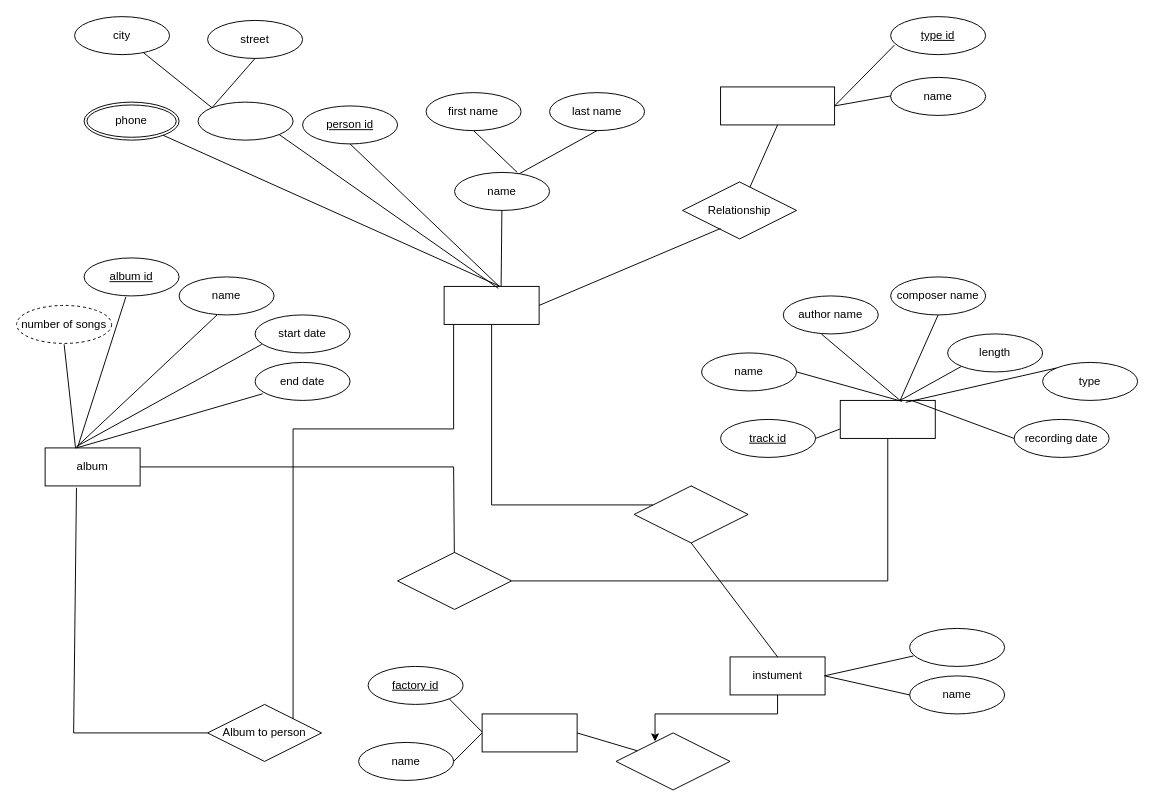
Some shapes in this 1154 by 807 pixel diagram are drawn without their labels. Each missing label, with the centre of its shape:
"address" belongs at (x=245, y=120).
"created" belongs at (x=672, y=761).
"factory" belongs at (x=529, y=732).
"instrument id" belongs at (x=957, y=646).
"instrumnt to person" belongs at (x=690, y=514).
"musical piece" belongs at (x=887, y=418).
"part of" belongs at (x=454, y=580).
"person" belongs at (x=491, y=304).
"person type" belongs at (x=777, y=105).
